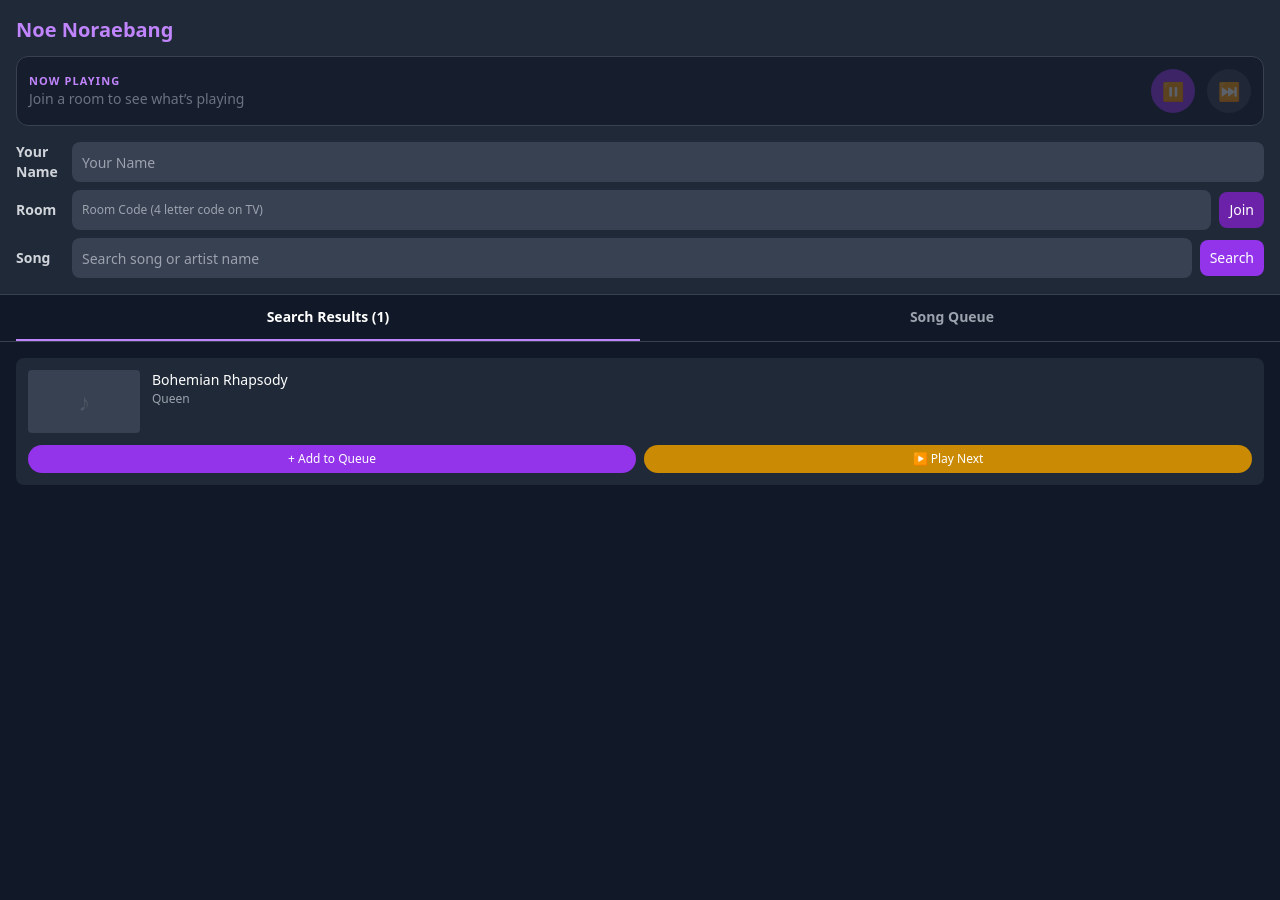
Test: MobileView › adding songs › blocks and asks for both when name and room code are missing
Click the button "+ Add to Queue" at coordinates (332, 459), box [28, 445, 636, 473]
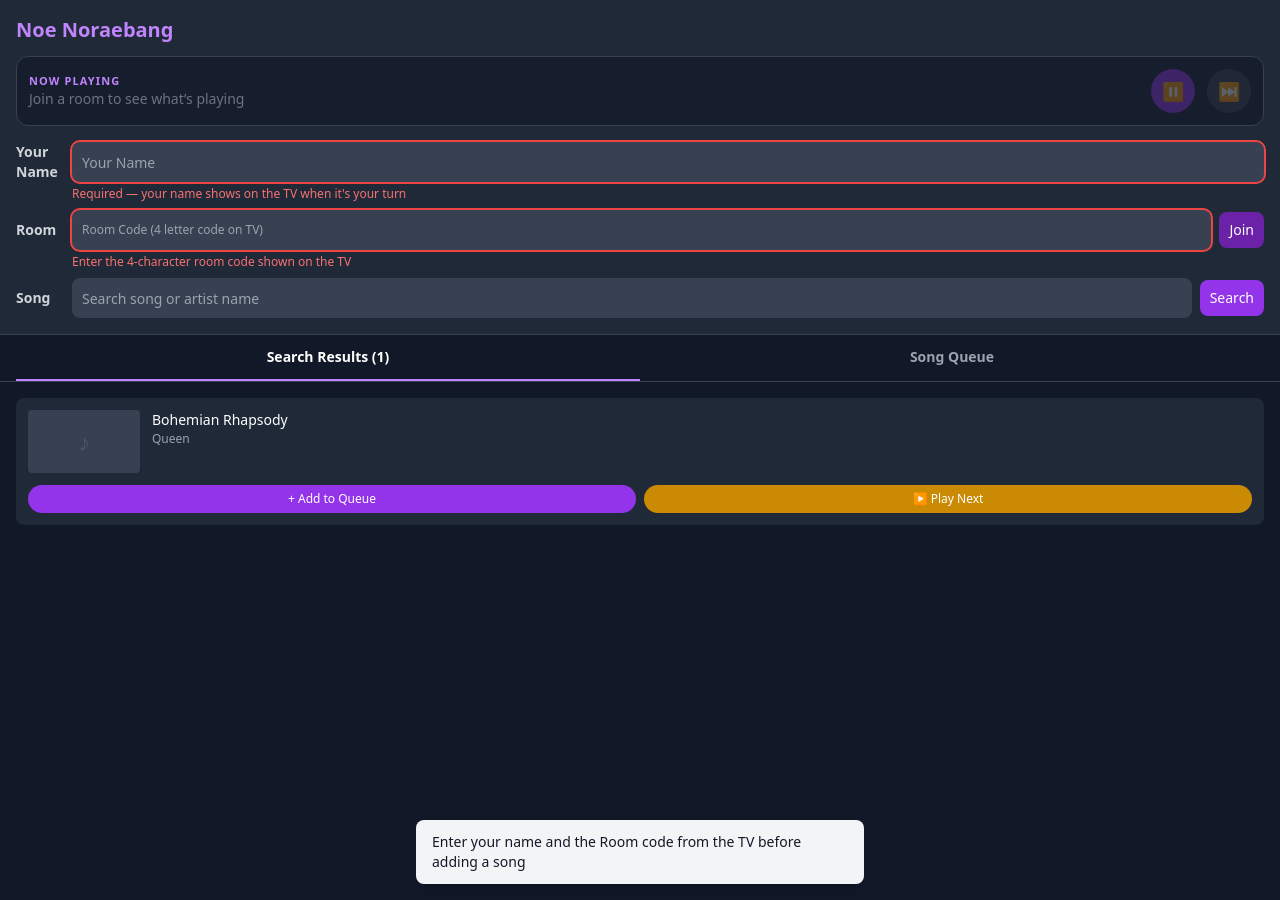
Now the message with test id "toast" reads "Enter your name and the Room code from the TV before adding a song", box [432, 832, 801, 871]
